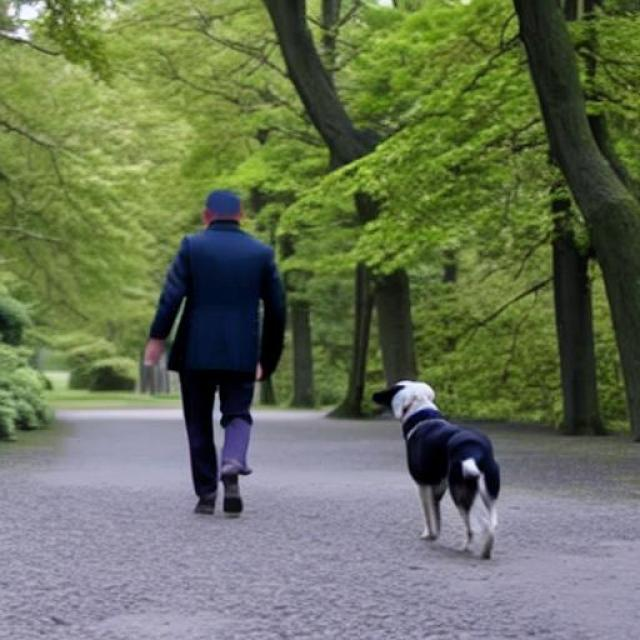Unleashed_Dog: (187, 320, 502, 562)
